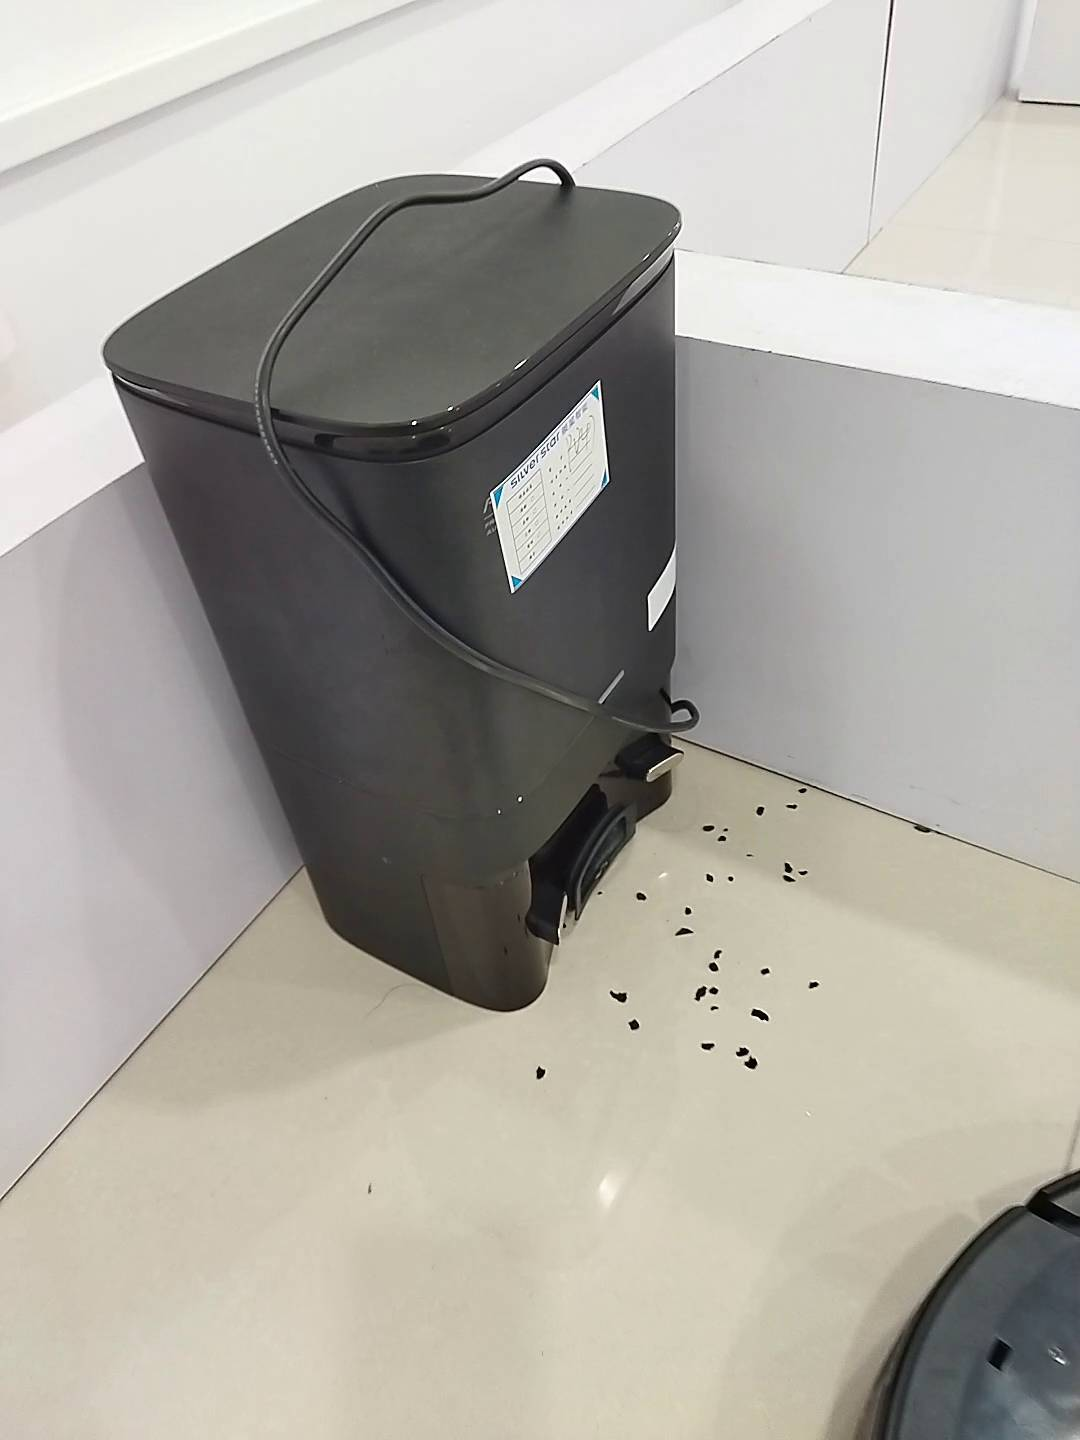dust collecting barrel: (106, 173, 687, 1013)
